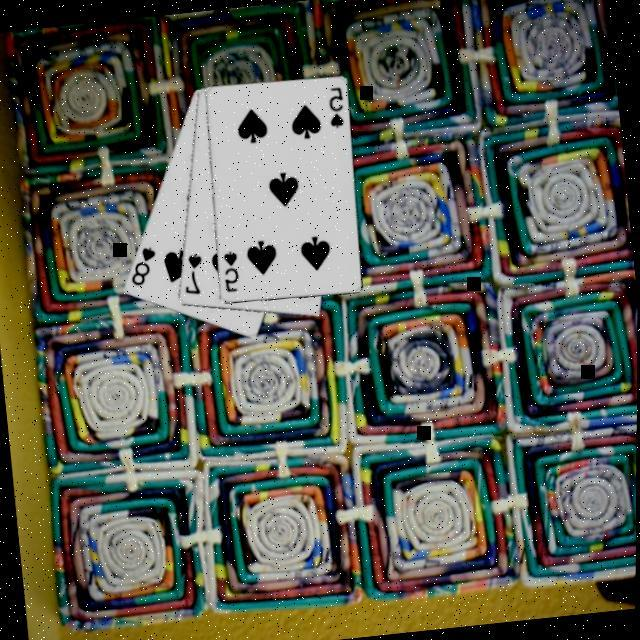5S: (216, 247, 241, 295), (321, 83, 346, 131)
7S: (175, 249, 206, 298)
8S: (123, 242, 159, 289)
